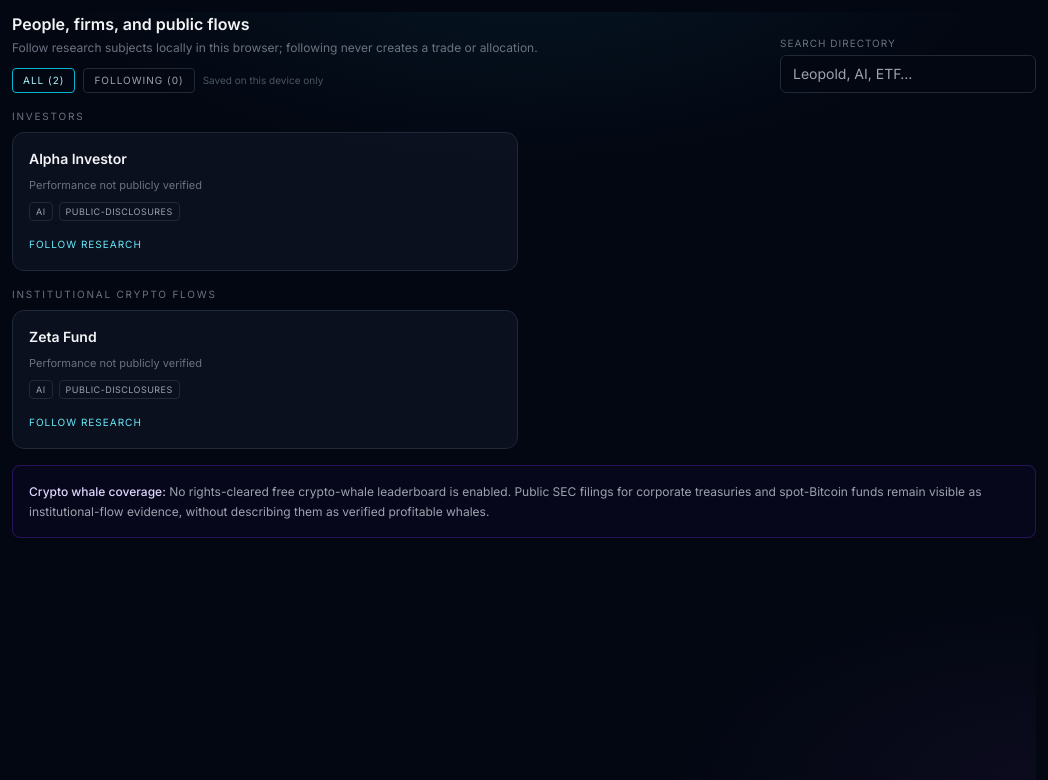
Test: turns local following into a usable followed-only shortlist
This screenshot has width=1048, height=780.
Step 1. Click the button with aria-label "follow zeta fund" → (85, 422), box [29,415,142,430]
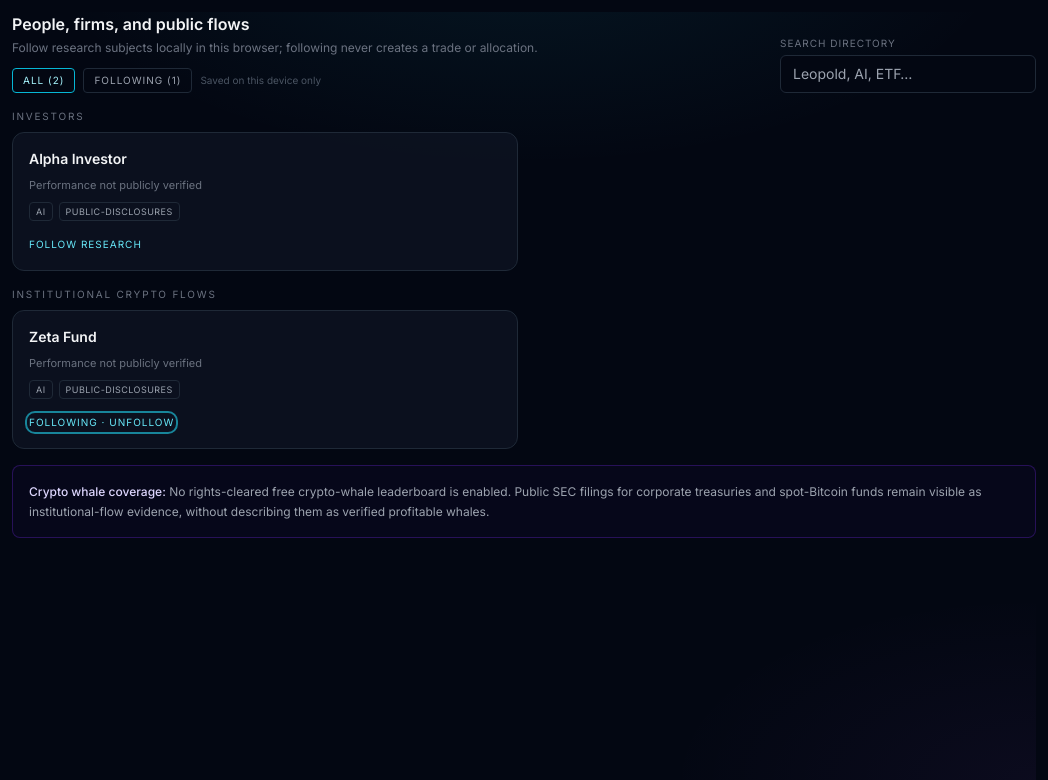
Step 2. Click the button "Following (1)" → (138, 80), box [83,68,192,93]
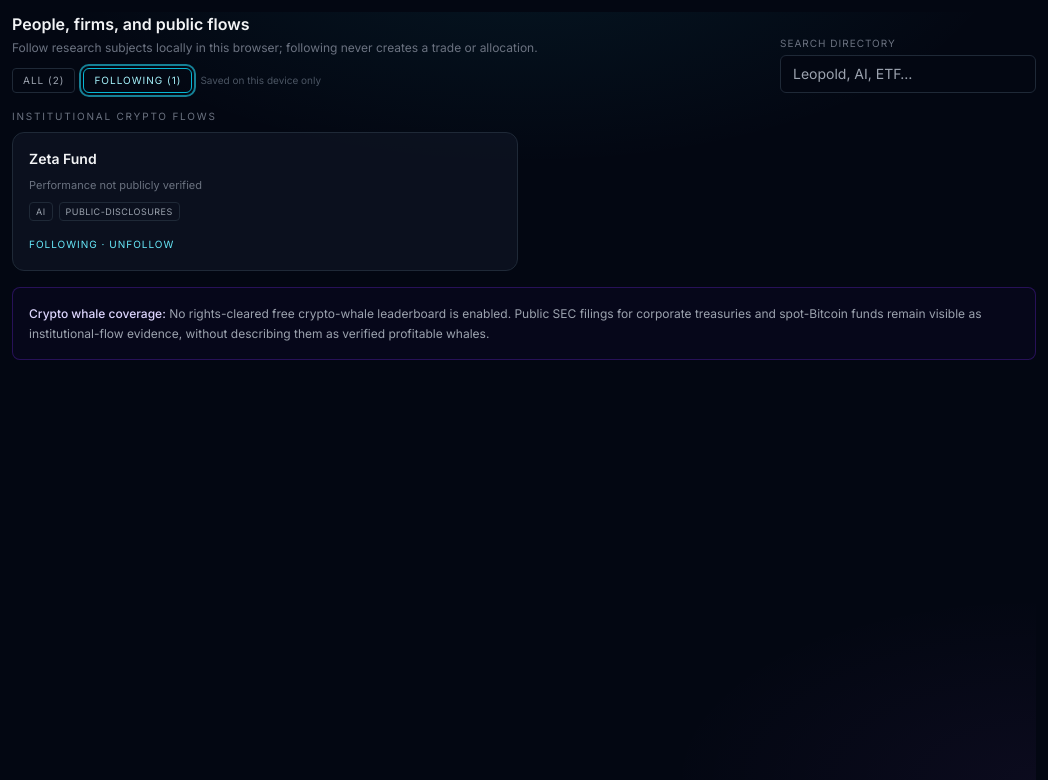
Check: the text "Zeta Fund" is shown, box [29,150,97,167]
Check: the button "Alpha Investor" is gone
Step 3. Click the button with aria-label "unfollow zeta fund" → (102, 244), box [29,237,174,252]
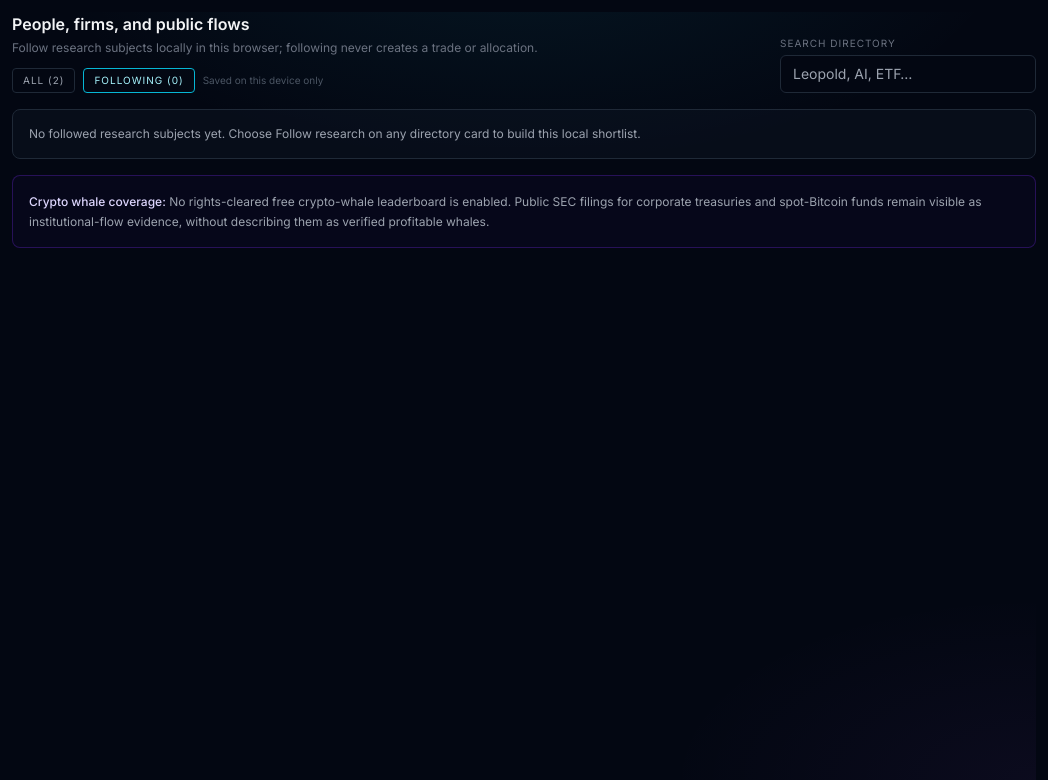
Check: the text "No followed research subjects yet" is shown, box [29,126,641,141]
